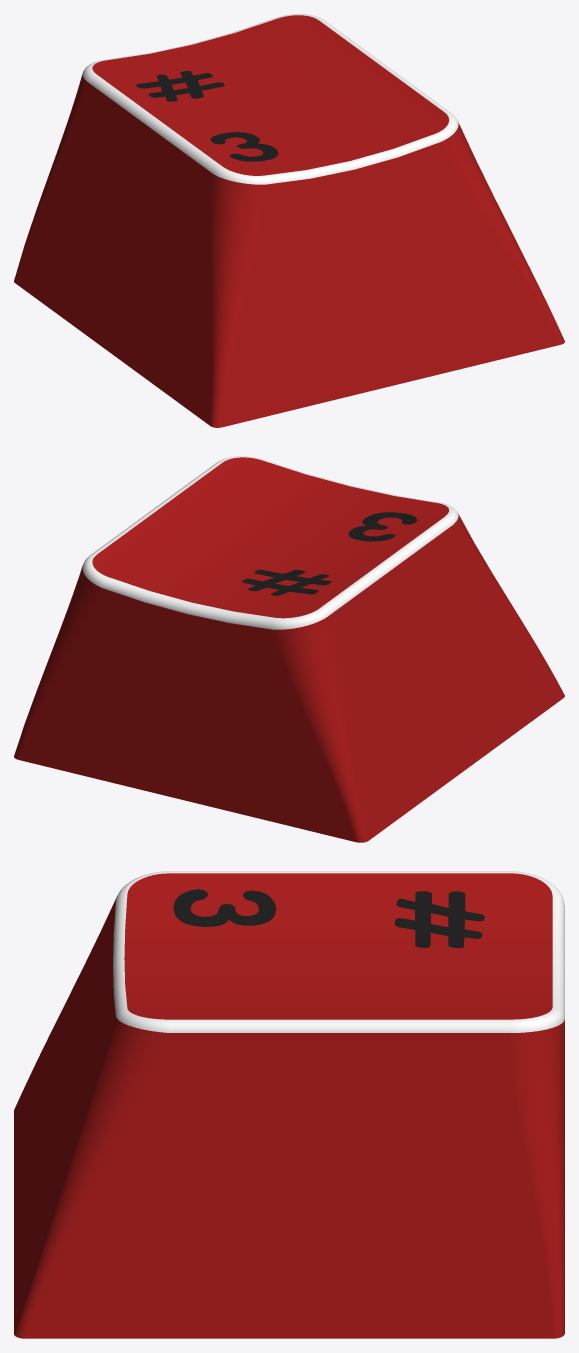
The model's file is 3 ANSI.fbx.
3 views of the same model, one above another, from view 1: azimuth 30°, elevation 25°; view 2: azimuth 150°, elevation 25°; view 3: azimuth 270°, elevation 25° (orthographic). The views are drawn at different scales.
Parts seen in each view (by area): view 1: Body1; view 2: Body1; view 3: Body1.
Boxes of the visible parts, box(x1,y1,x2,y2) form: Body1: box(14, 14, 564, 427); Body1: box(14, 456, 564, 842); Body1: box(14, 871, 564, 1338).
Bounding box in the file's own units: 18 × 9.95 × 18.
